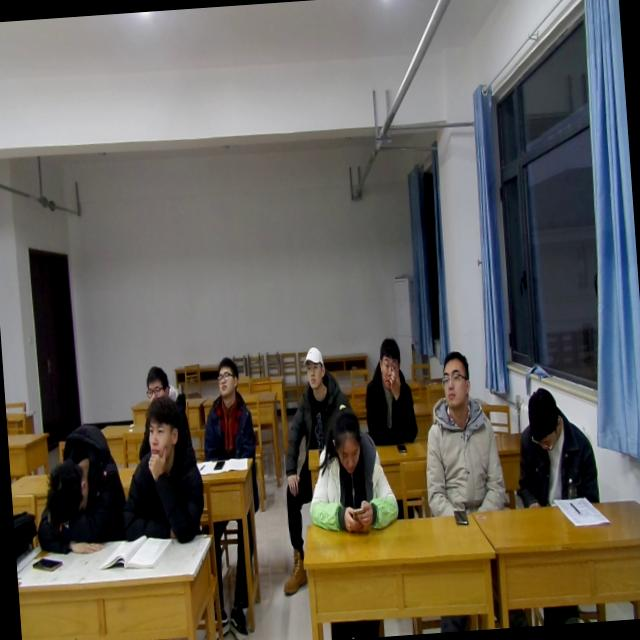bow: (26, 420, 130, 561)
down: (522, 382, 566, 456), (326, 402, 364, 478)
lookup: (138, 388, 182, 468), (433, 344, 472, 413), (374, 331, 406, 393), (300, 342, 330, 394), (213, 351, 241, 405), (142, 362, 171, 404)
sit: (416, 346, 512, 526), (108, 393, 211, 548), (300, 396, 402, 536), (510, 378, 602, 512), (277, 339, 353, 452), (358, 332, 419, 451), (192, 353, 257, 462), (135, 358, 192, 436)
